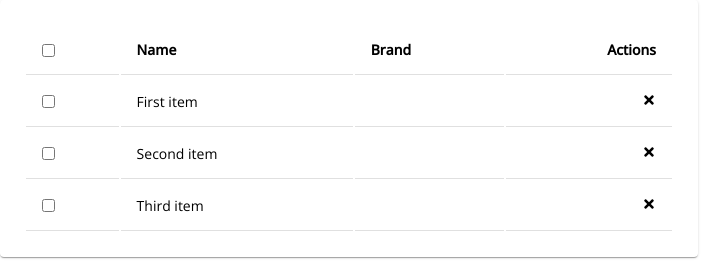
<GearTable /> › should remove the item when the delete button is clicked
The width and height of the screenshot is (716, 276).
Check: the text "Second item" is shown, box 121,129 -> 353,179
Click the button named "Delete Item 2": (649, 154) 642,145 -> 656,162
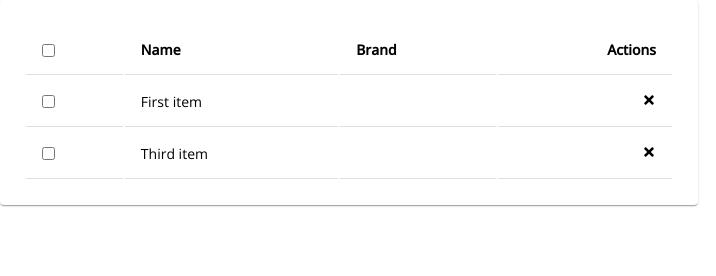
Check: the text "Second item" is gone
